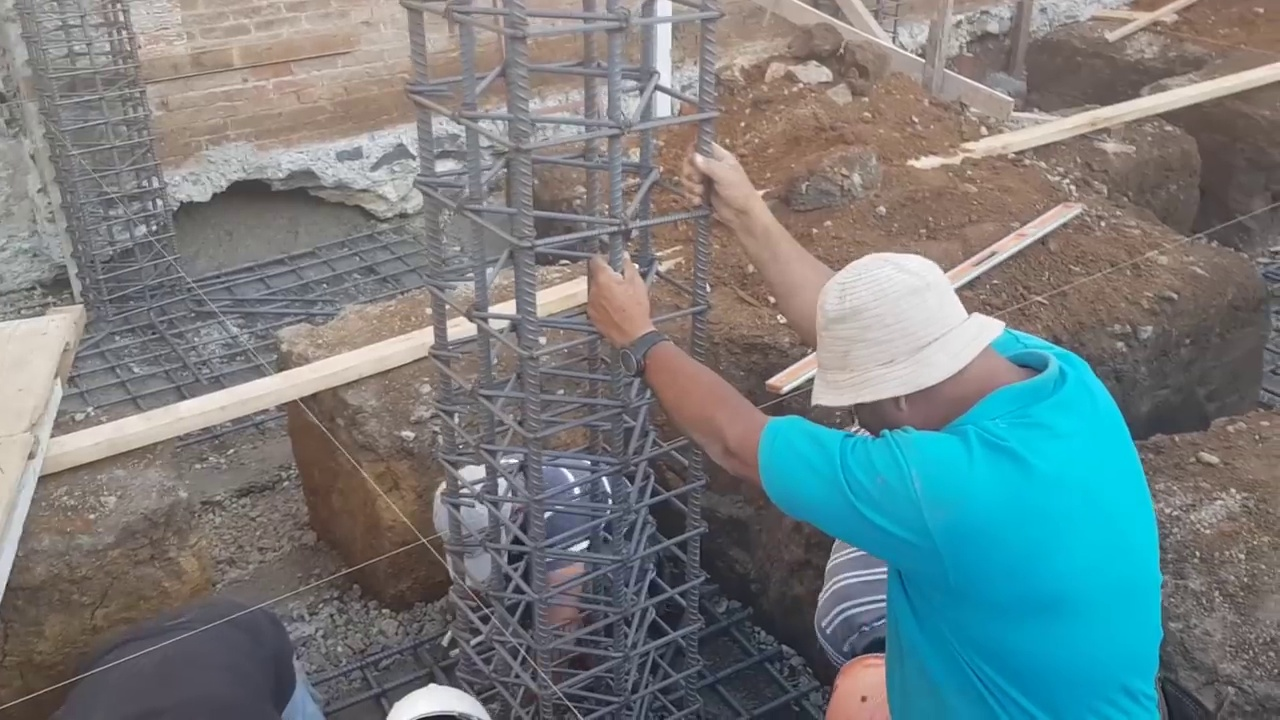helmet: (814, 648, 898, 719), (382, 681, 492, 719)
helmet-off: (812, 263, 1041, 431), (439, 474, 530, 582)
helmet-on: (818, 627, 912, 717)
person: (580, 132, 1183, 720), (430, 448, 660, 686), (44, 574, 328, 718)
